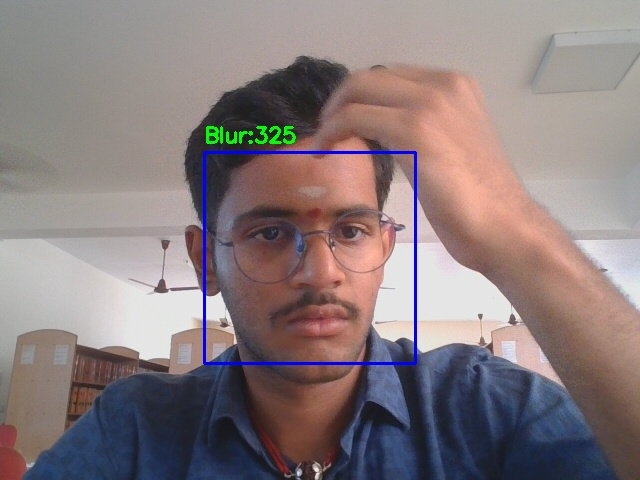real: (204, 152, 415, 363)
